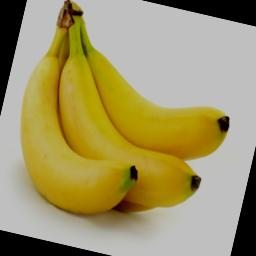Banana Ripe: (0, 0, 255, 251)
